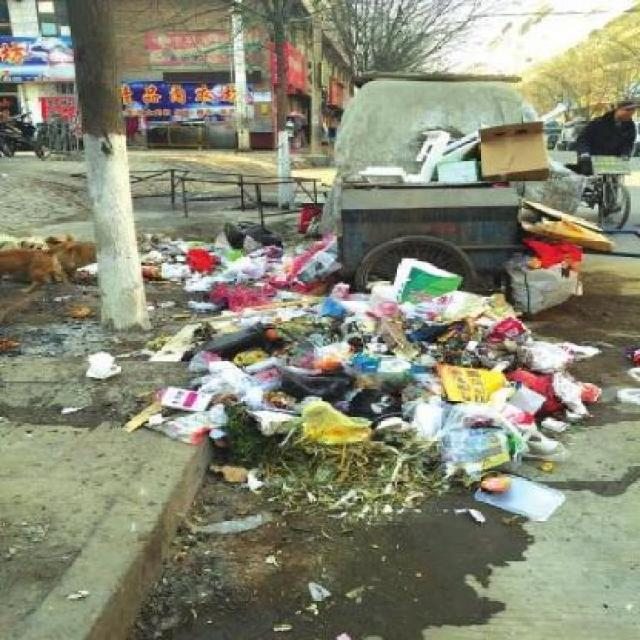garbage: (191, 293, 585, 509), (137, 226, 336, 284), (511, 195, 615, 290), (413, 119, 552, 186), (191, 511, 296, 541), (129, 386, 186, 432), (296, 575, 363, 614), (291, 199, 332, 235), (154, 320, 190, 360), (51, 298, 102, 320), (625, 343, 640, 407), (86, 346, 112, 381), (2, 330, 21, 349)
